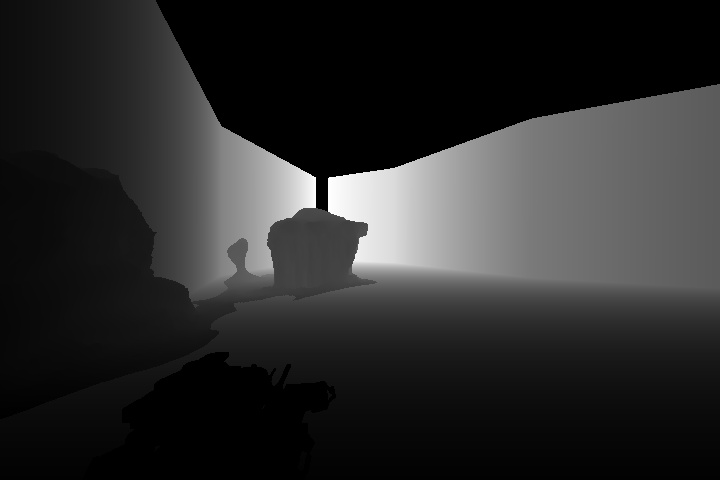green rock: (7, 147, 238, 357), (222, 207, 381, 305)
